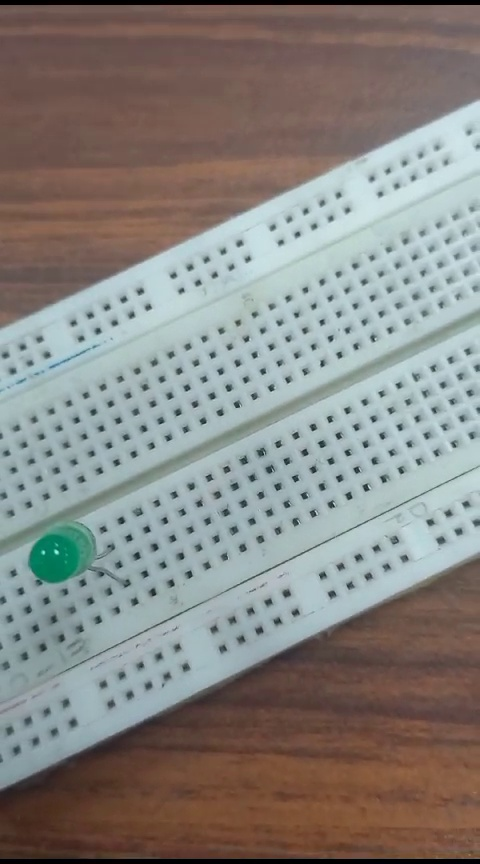LED: (22, 519, 127, 592)
